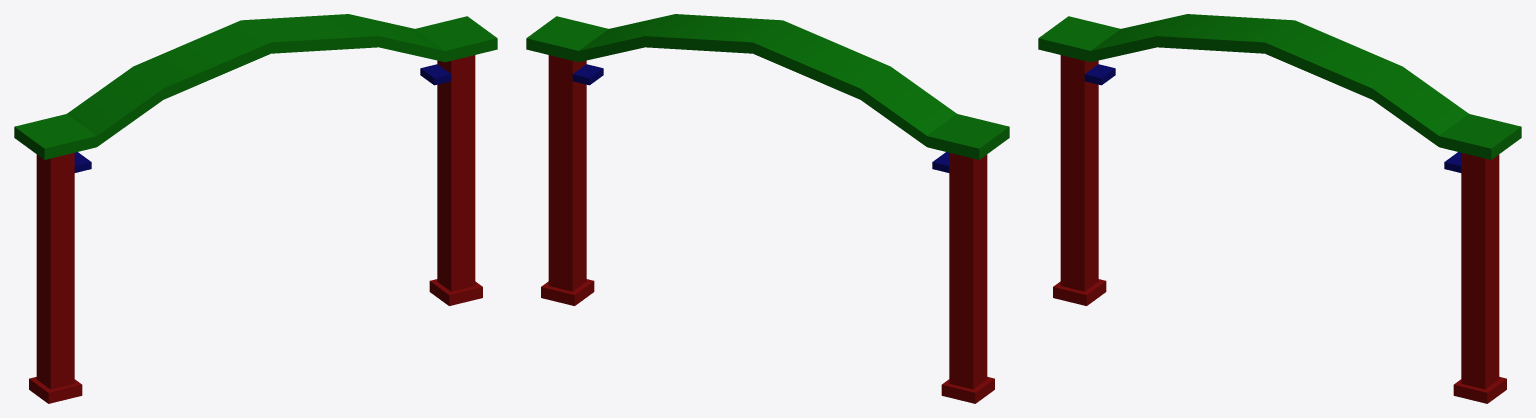
File: Gate.fbx
3 renders of one model, left to right at view 1: azimuth 30°, elevation 25°; view 2: azimuth 150°, elevation 25°; view 3: azimuth 330°, elevation 25°, orthographic.
Visible parts, largest first — view 1: Gate; view 2: Gate; view 3: Gate.
Part boxes in pixels (left/top/right/bottom): Gate: left=14, top=14, right=497, bottom=403; Gate: left=526, top=14, right=1009, bottom=403; Gate: left=1038, top=14, right=1521, bottom=403.
Bounding box in the file's own units: 2.94 × 1.94 × 0.3393.
